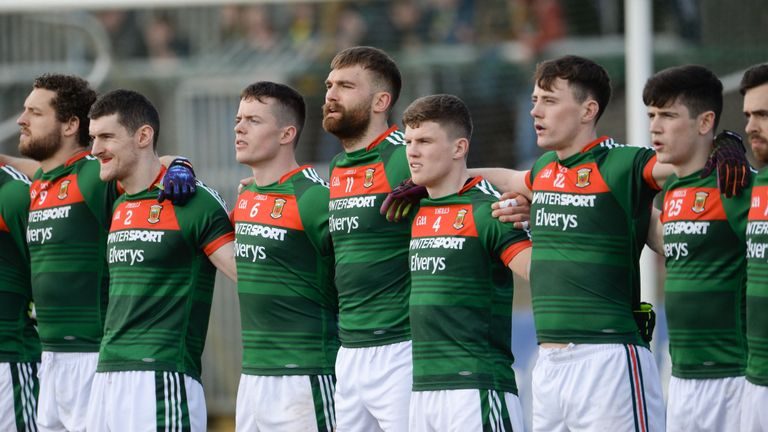player: (281, 14, 437, 415), (7, 64, 140, 430), (511, 39, 647, 393), (396, 72, 529, 429), (210, 69, 334, 431), (81, 87, 209, 399), (634, 71, 723, 424)
